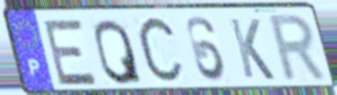6: (186, 15, 229, 86)
C: (135, 13, 187, 89)
E: (42, 18, 101, 88)
K: (227, 17, 278, 83)
Q: (92, 17, 145, 87)
R: (267, 11, 331, 85)
